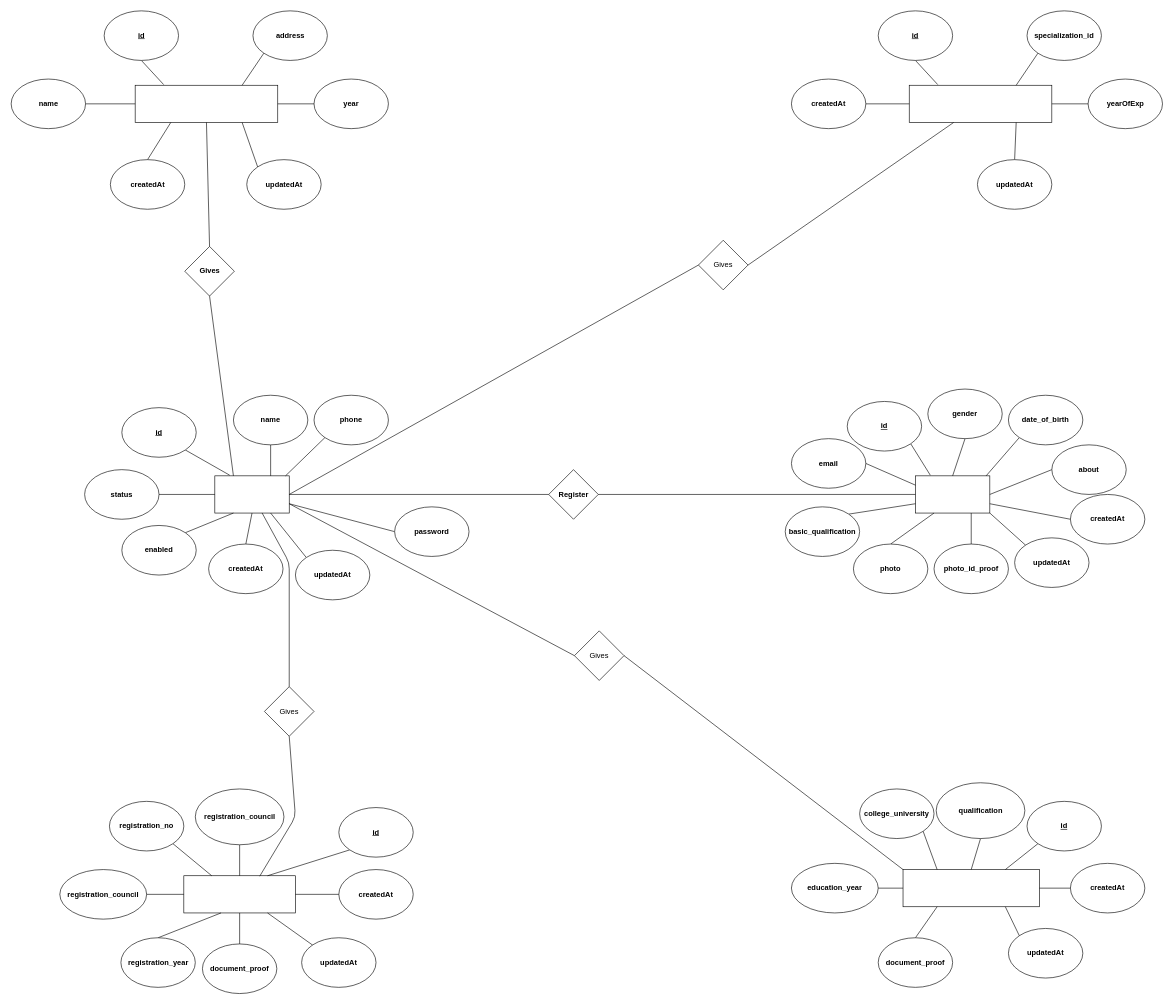
This 1173x1004 diagram has some shape labels left out. Here are the shapes that lost their labels. From the top down, the centre of each, then its label:
At point (206, 103): "CONSULTATION_ESTABLISHMENTS".
At point (980, 103): "CONSULTANT_SPECIALIZATION".
At point (251, 494): "USERS".
At point (952, 494): "USER_DETAILS".
At point (239, 894): "MEDICAL_REGISTRATIONS".
At point (970, 888): "EDUCATION_QUALIFICATIONS".
